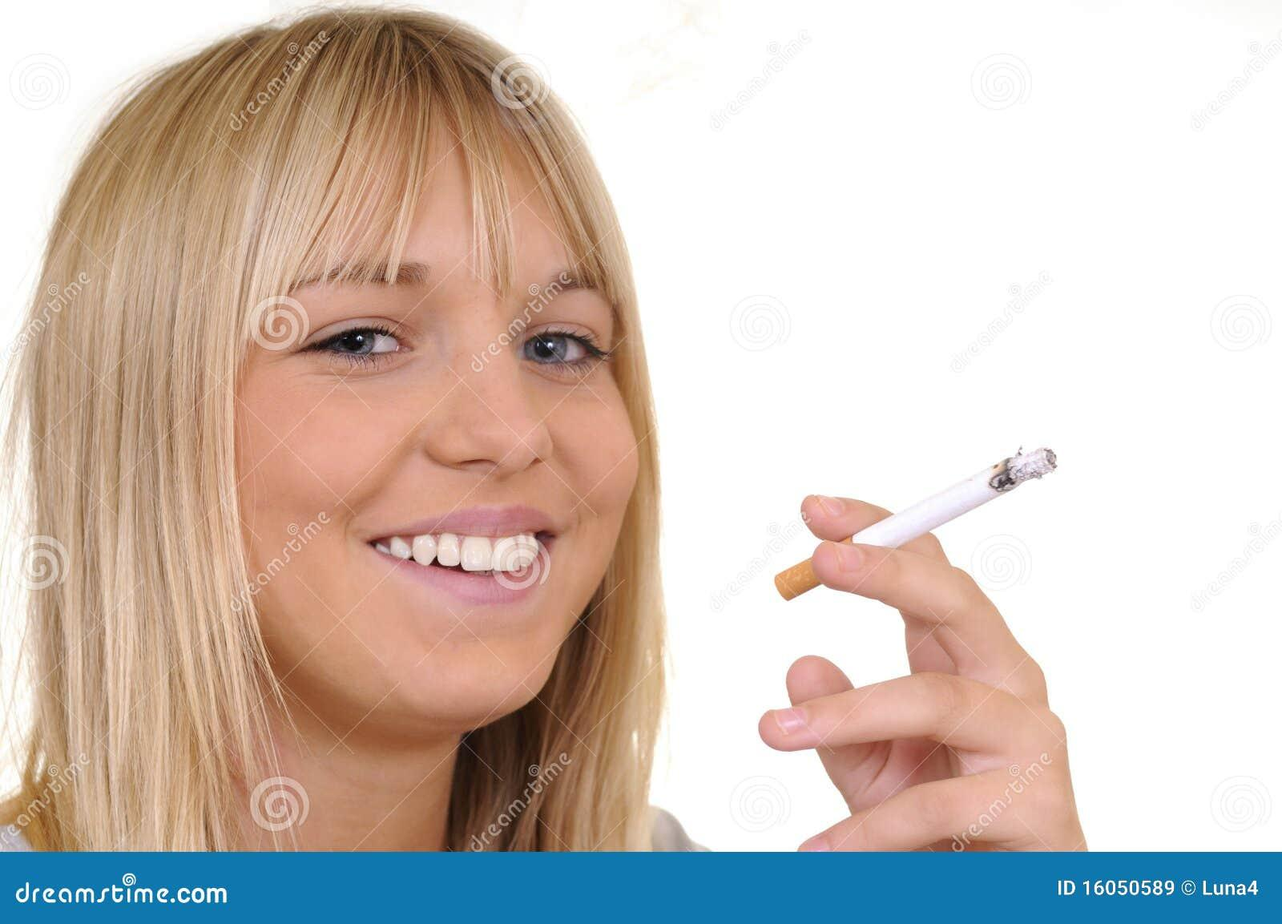cigarette: (842, 448, 1055, 547)
